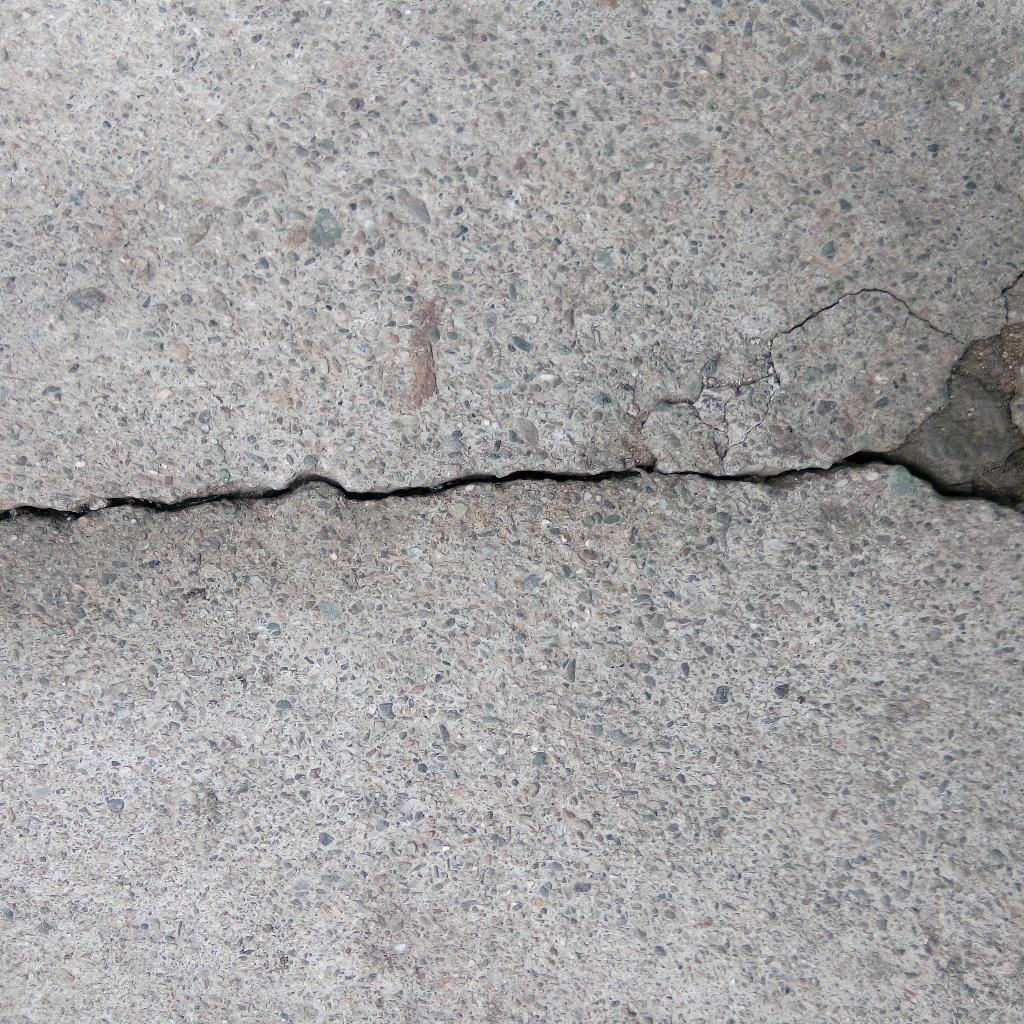Crack: (1, 447, 892, 523), (779, 289, 961, 343)
Spalling: (892, 269, 1024, 518)
